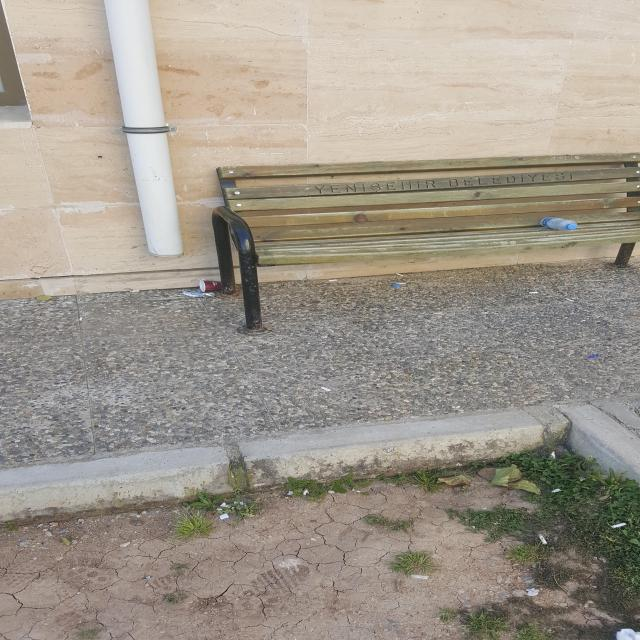litter: (539, 217, 577, 231)
